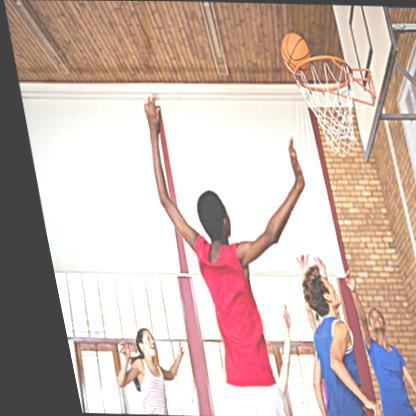basketball: (276, 31, 311, 73)
rim: (287, 54, 360, 152)
